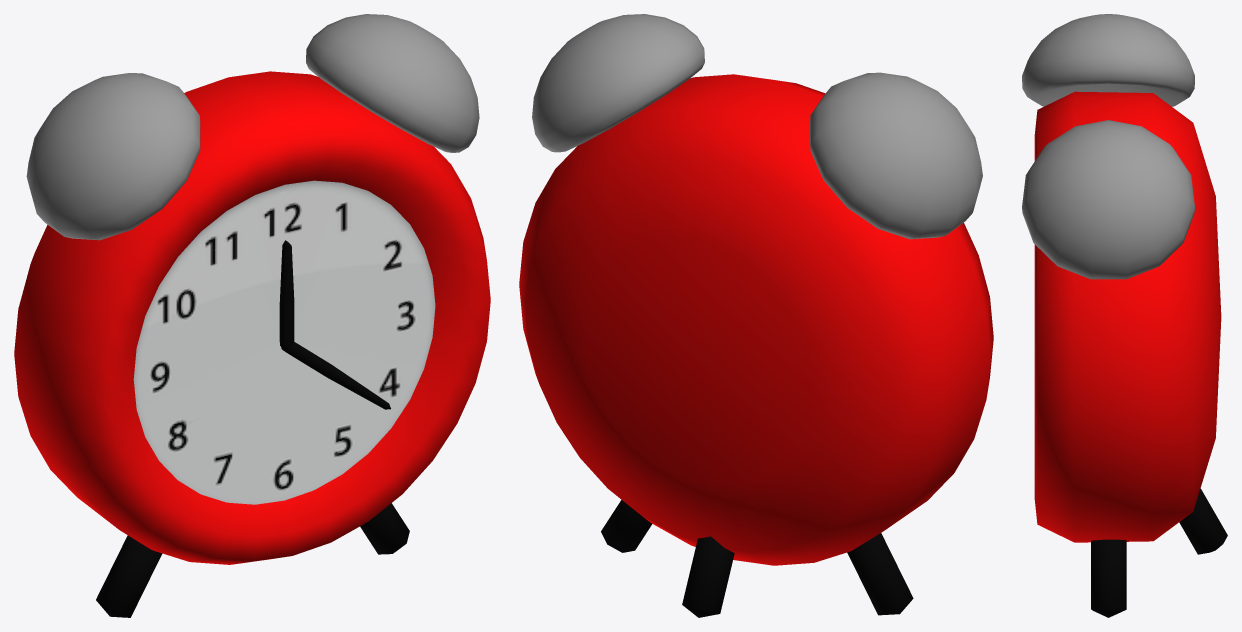
The model's file is Reloj.fbx.
The picture shows the model from 3 angles, left to right: view 1: azimuth 30°, elevation 25°; view 2: azimuth 150°, elevation 25°; view 3: azimuth 270°, elevation 25°; orthographic projection. The views are drawn at different scales.
Parts seen in each view (by area): view 1: reloj; view 2: reloj; view 3: reloj.
Boxes of the visible parts, x1,y1,x2,y2 form: reloj: (14, 14, 490, 617); reloj: (519, 14, 993, 617); reloj: (1022, 14, 1227, 617).
Size of the model in its own units: 83.87 by 98.69 by 38.26.
Materials: 1 (1 with a texture image).
